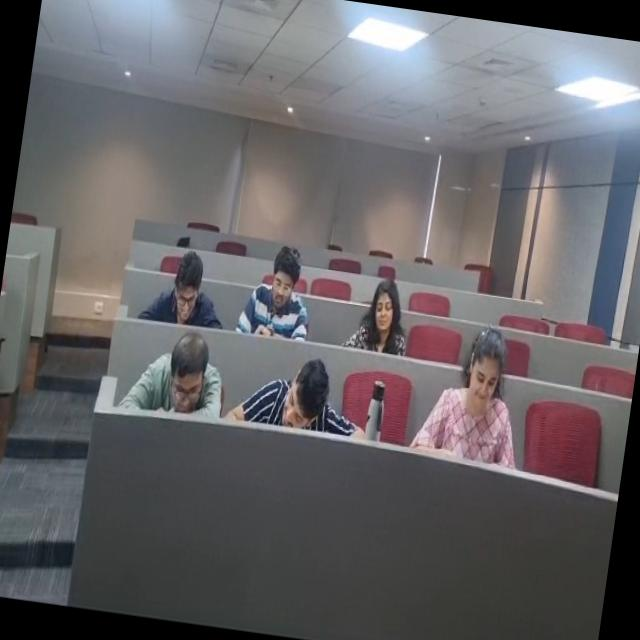cheating: (236, 226, 329, 346), (254, 350, 352, 444), (144, 336, 230, 420)
non-cheating: (437, 322, 525, 438), (344, 262, 423, 371), (160, 248, 228, 330)
